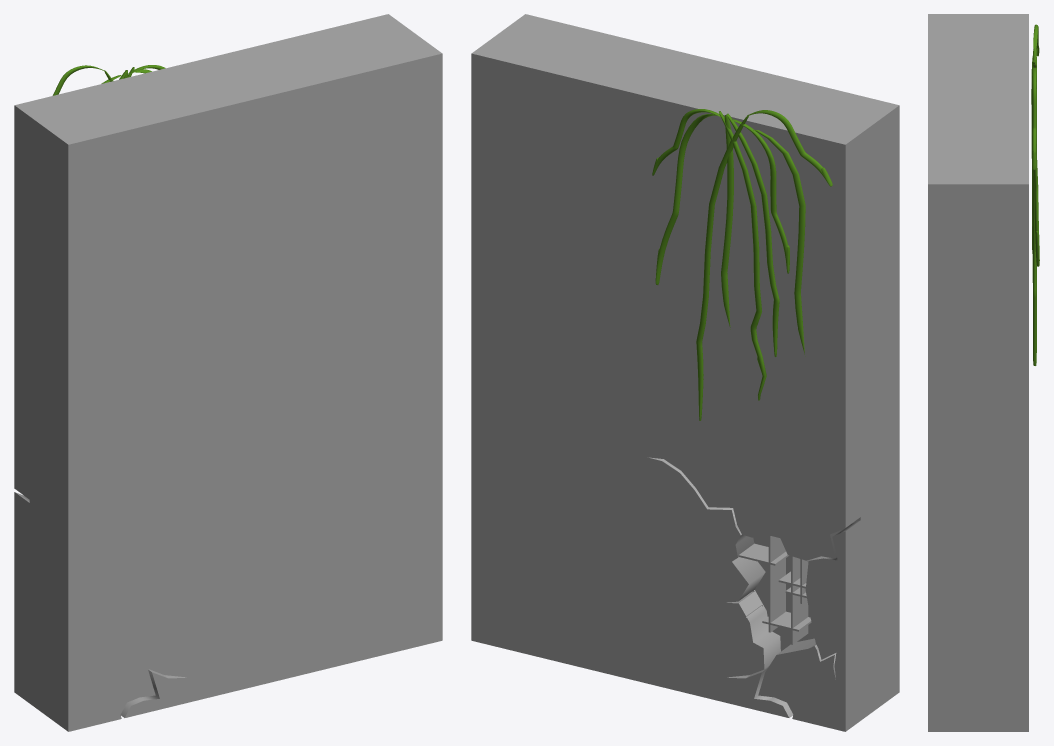
Rendered from b_wallcrackvine_tutorial_8x12x2.fbx.
The picture shows the model from 3 angles, left to right: view 1: azimuth 30°, elevation 25°; view 2: azimuth 150°, elevation 25°; view 3: azimuth 270°, elevation 25°; orthographic projection. The views are drawn at different scales.
Parts seen in each view (by area): view 1: wall8122; view 2: wall8122, vine, glow_pipe; view 3: wall8122, vine.
Boxes of the visible parts, x1,y1,x2,y2 form: wall8122: (14,14,442,731); wall8122: (471,14,899,731); vine: (652,109,832,420); glow_pipe: (739,535,811,644); wall8122: (928,14,1028,731); vine: (1031,24,1039,365).
Size of the model in its own units: 8 by 12.4 by 2.22.
